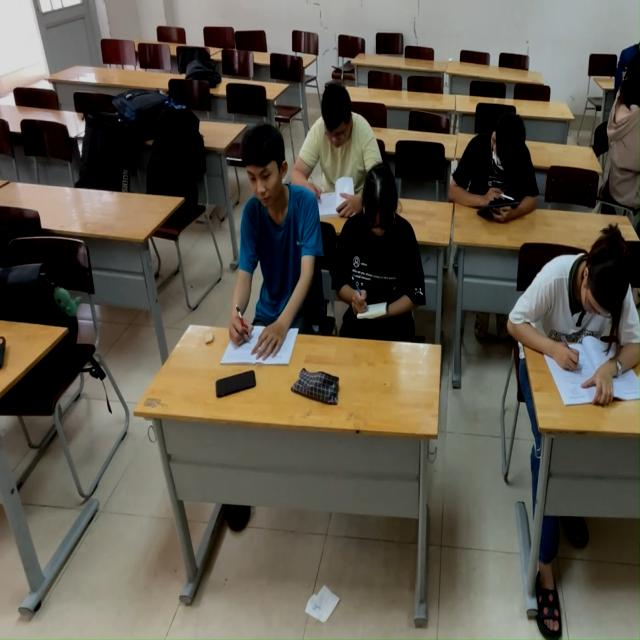read: (499, 217, 640, 438), (218, 114, 326, 376), (329, 158, 436, 362), (435, 92, 544, 233), (292, 84, 385, 219)
